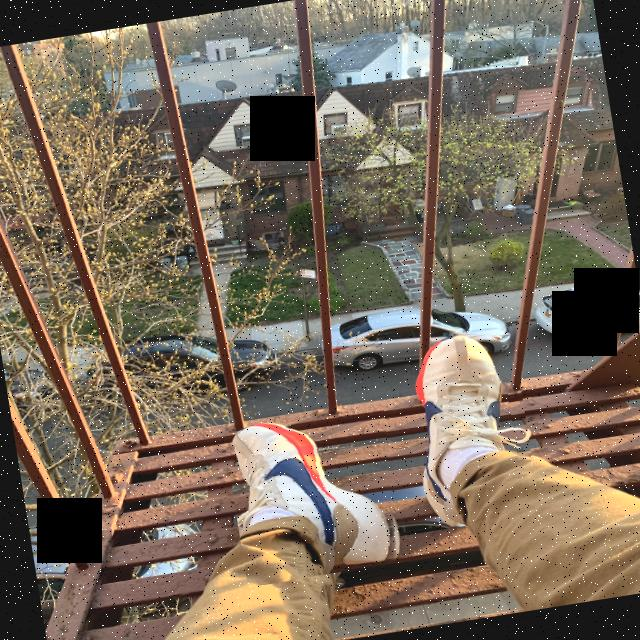shoe: (223, 404, 409, 588), (397, 322, 542, 532)
